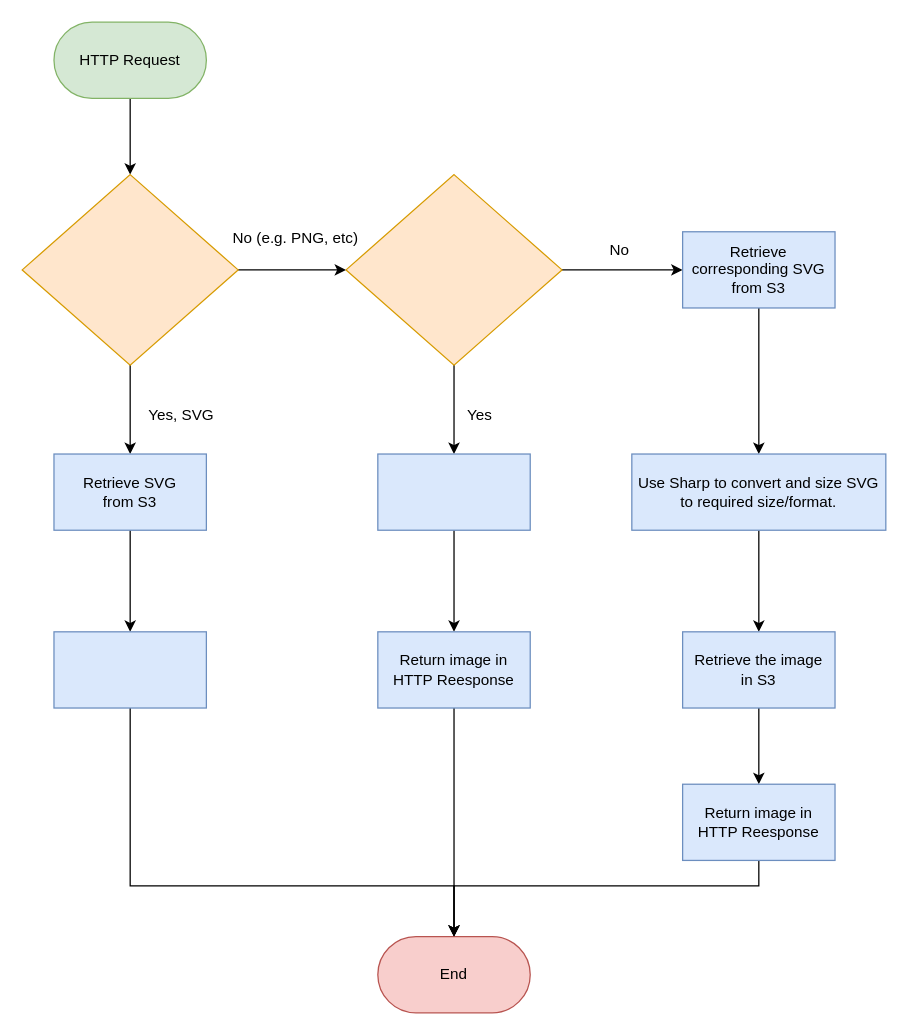
This 908x1035 diagram has some shape labels left out. The box of each missing label's shape, as (x1, y1, x2, y2) in pixels:
Does the requested image exist in S3?: (345, 173, 562, 365)
Is an SVG being requested?: (21, 173, 238, 365)
Retrieve image from S3: (377, 453, 530, 530)
Return SVG in HTTP Reesponse: (53, 631, 206, 708)
